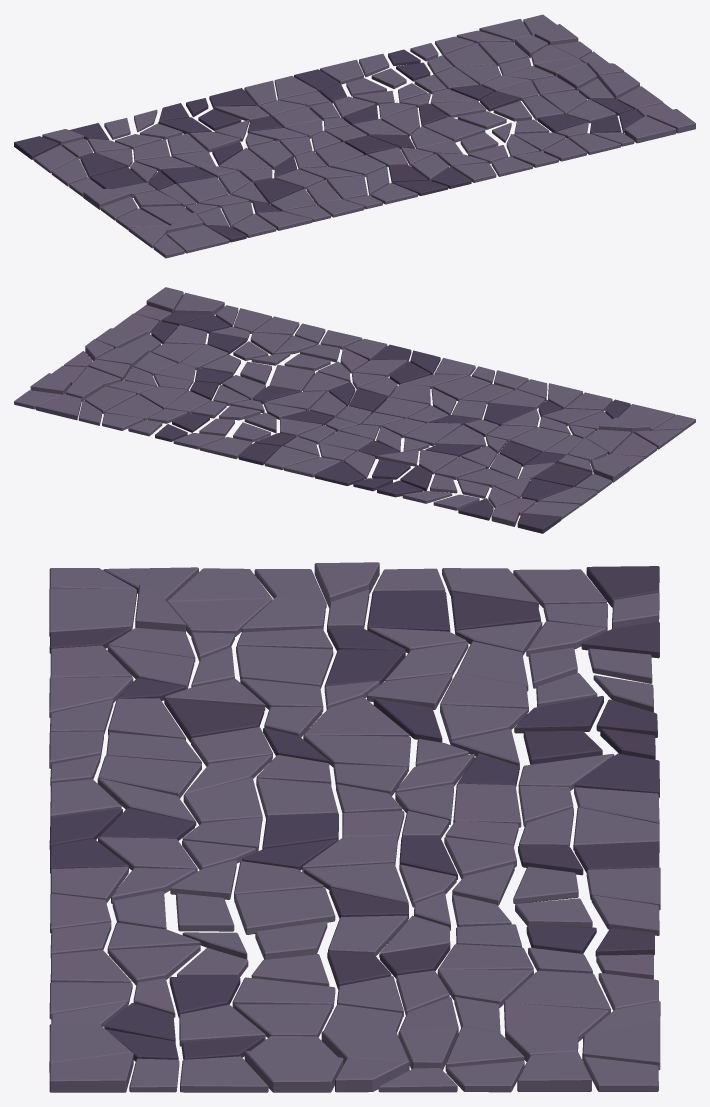
Rendered from Floor1.fbx.
3 views of the same model, one above another, from view 1: azimuth 30°, elevation 25°; view 2: azimuth 150°, elevation 25°; view 3: azimuth 270°, elevation 25° (orthographic). The views are drawn at different scales.
Visible parts, largest first — view 1: Slab0_0_0.001; view 2: Slab0_0_0.001; view 3: Slab0_0_0.001.
Boxes of the visible parts, x1,y1,x2,y2 form: Slab0_0_0.001: (14, 14, 695, 258); Slab0_0_0.001: (14, 287, 695, 533); Slab0_0_0.001: (49, 562, 660, 1092).
Bounding box in the file's own units: 14973 × 195 × 7471.
